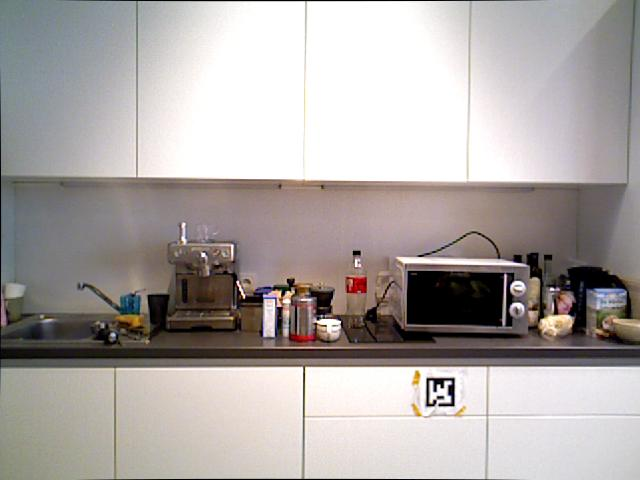bench: (345, 249, 367, 328), (541, 253, 556, 318)
bird: (607, 315, 640, 342)
couch: (1, 316, 103, 343)
handbag: (147, 293, 169, 325), (317, 316, 341, 342), (194, 220, 217, 247), (121, 291, 141, 322)
knife: (392, 255, 530, 336)
